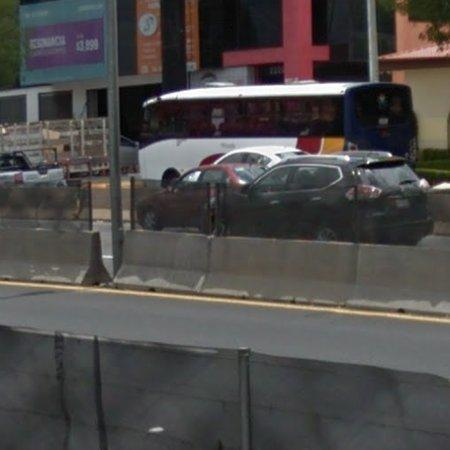buses: (140, 83, 418, 183)
